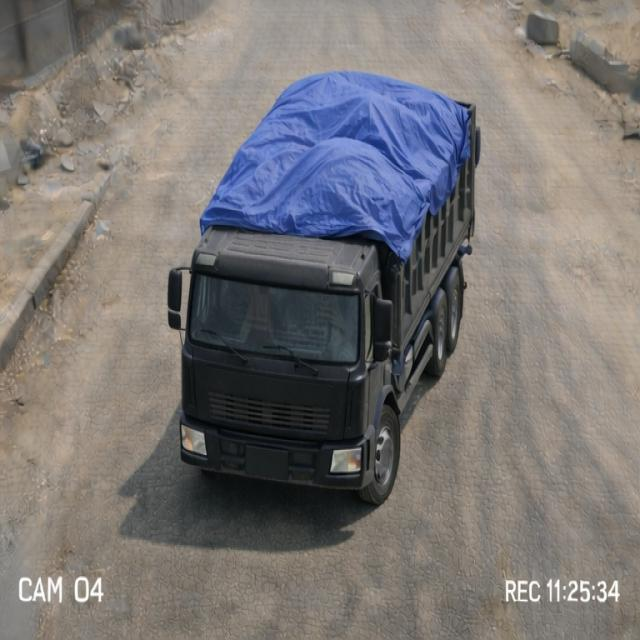Box: (192, 68, 479, 252)
Truck: (166, 64, 489, 509)
